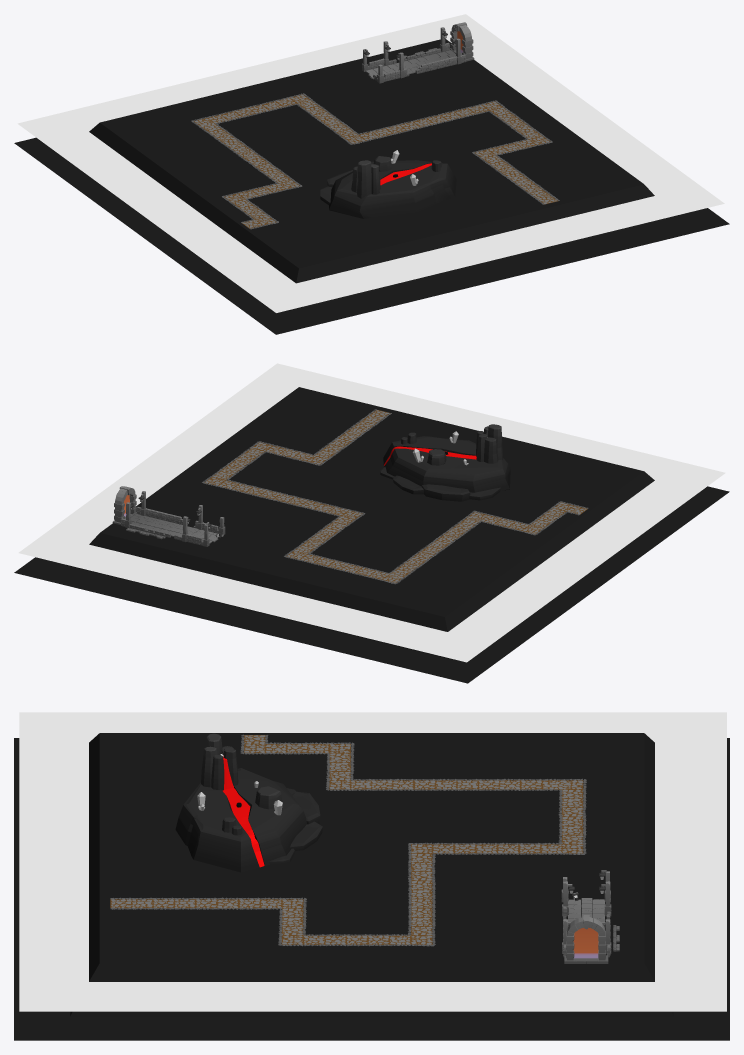
3 renders of one model, top to bottom at view 1: azimuth 30°, elevation 25°; view 2: azimuth 150°, elevation 25°; view 3: azimuth 270°, elevation 25°, orthographic. The views are drawn at different scales.
Visible parts, largest first — view 1: MapPlane.001, LavaPH.001, StonePath2.002, Cylinder.021, Fortress.270, Cylinder.023; view 2: MapPlane.001, LavaPH.001, StonePath2.002, Cylinder.021, Cylinder.033, Fortress.270; view 3: MapPlane.001, LavaPH.001, StonePath2.002, Cylinder.021, Fortress.270, Cylinder.029, Portal.001, Cylinder.034, Cylinder.033.
Part boxes in pixels (x1,y1,x2,y2): MapPlane.001: (14,39,729,334); LavaPH.001: (17,14,724,312); StonePath2.002: (191,93,559,229); Cylinder.021: (329,160,456,218); Fortress.270: (449,22,474,61); Cylinder.023: (356,160,371,198); MapPlane.001: (14,387,729,683); LavaPH.001: (18,363,725,662); StonePath2.002: (202,409,588,584); Cylinder.021: (383,436,510,492); Cylinder.033: (421,484,470,501); Fortress.270: (112,486,136,524); MapPlane.001: (14,733,729,1040); LavaPH.001: (19,712,726,1011); StonePath2.002: (110,734,586,946); Cylinder.021: (175,768,306,872); Fortress.270: (564,915,608,963); Cylinder.029: (220,754,264,867); Portal.001: (573,927,598,958); Cylinder.034: (290,821,322,851); Cylinder.033: (291,791,320,824).
Size of the model in its own units: 9863 by 1653 by 9863.
